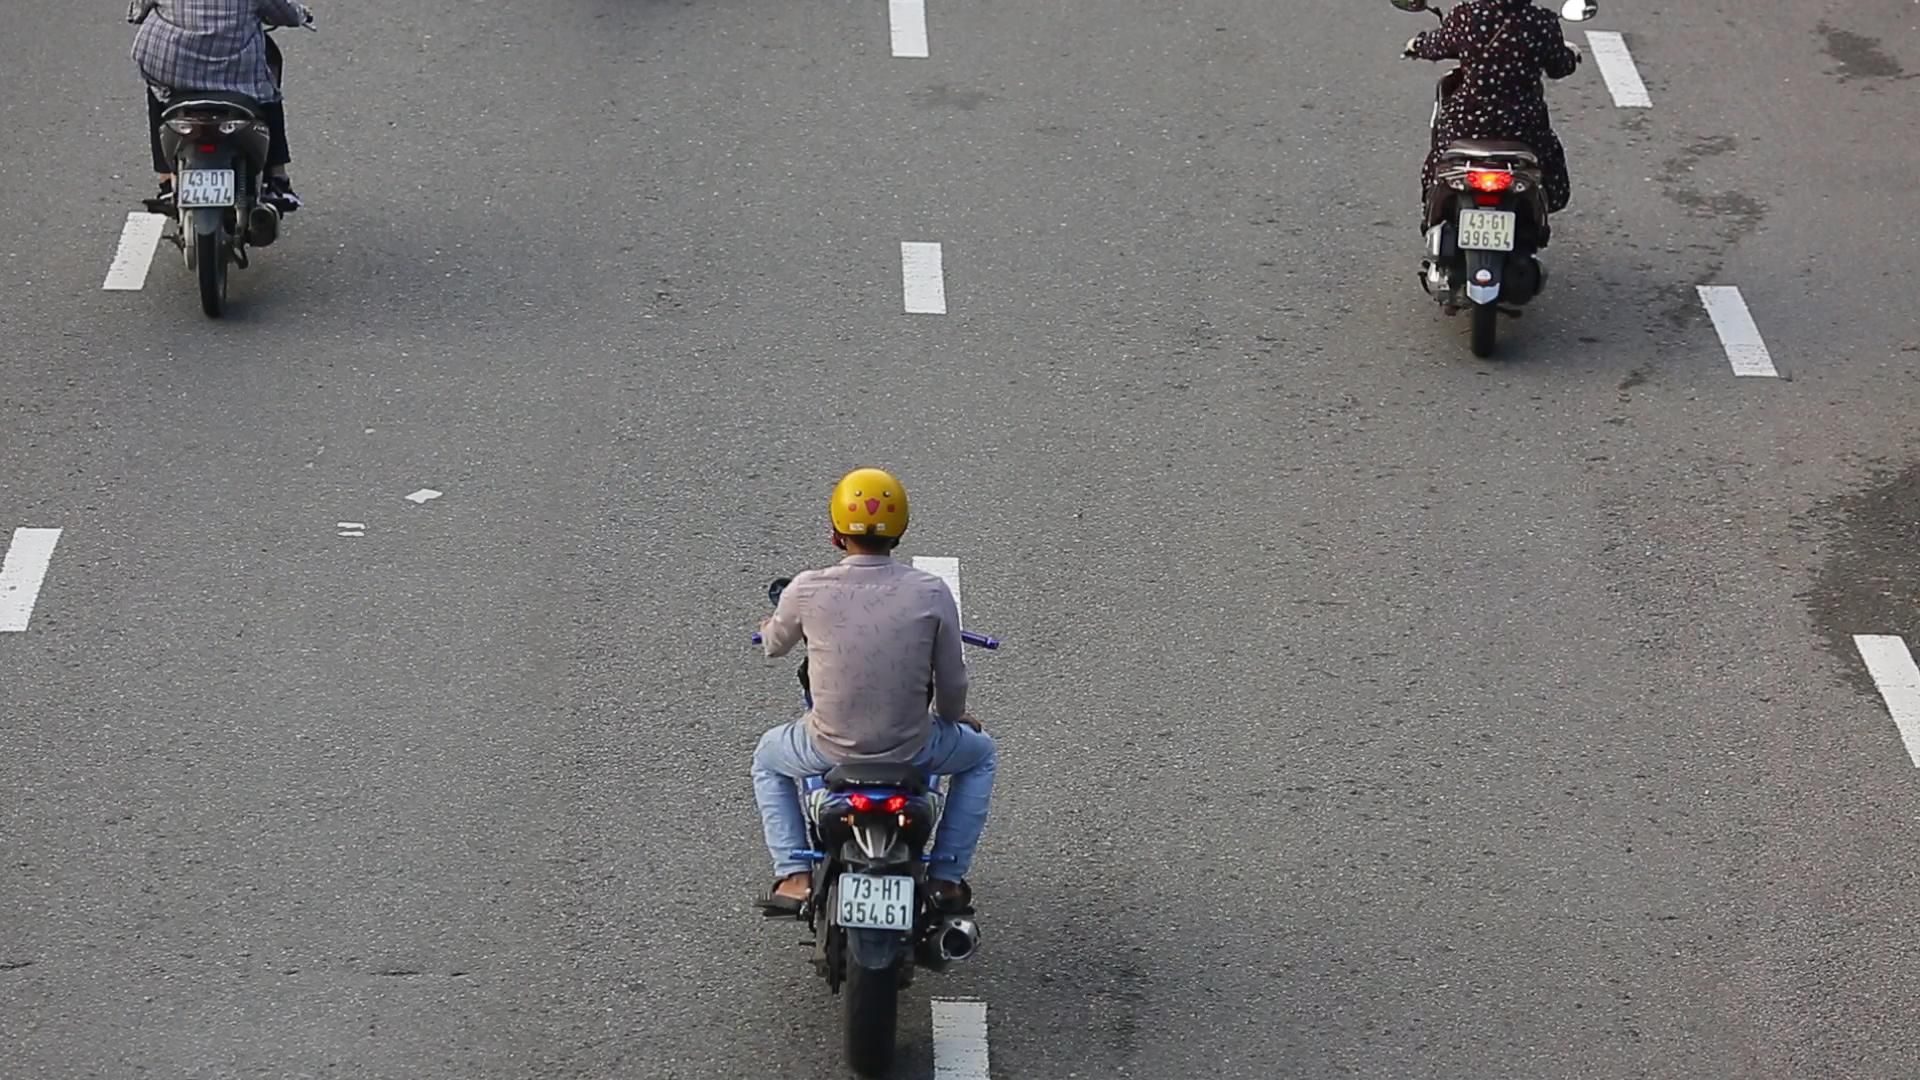motobike: (746, 463, 1004, 1080)
